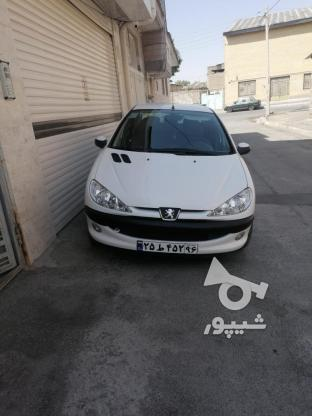car: (136, 239, 198, 255)
